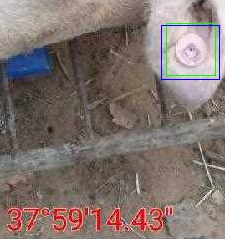text: (166, 23, 215, 75)
